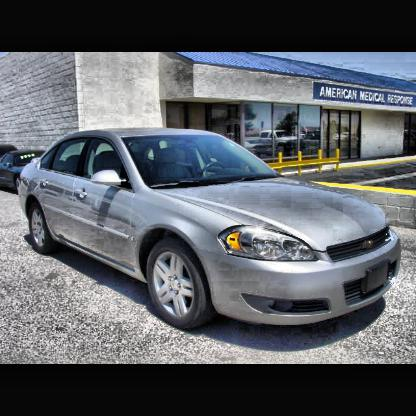Chevrolet Impala Sedan 2007: (18, 125, 404, 336)
